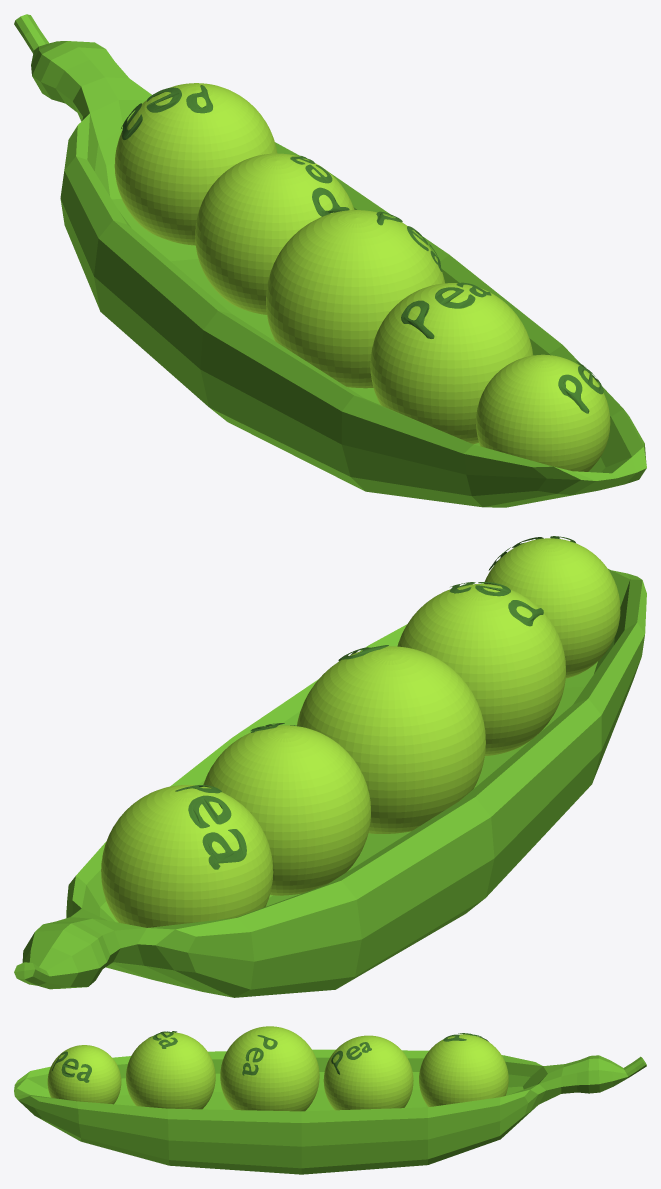
File: vegetable.fbx
The picture shows the model from 3 angles, top to bottom: view 1: azimuth 30°, elevation 25°; view 2: azimuth 150°, elevation 25°; view 3: azimuth 270°, elevation 25°; orthographic projection. The views are drawn at different scales.
Visible parts, largest first — view 1: Cube, Text.004, Text.001, Text.003, Text; view 2: Cube, Text.004, Text.001; view 3: Cube, Text, Text.002, Text.003, Text.001.
Boxes of the visible parts, left/top/right/bottom form: Cube: left=14, top=14, right=646, bottom=507; Text.004: left=121, top=85, right=212, bottom=139; Text.001: left=401, top=282, right=491, bottom=338; Text.003: left=290, top=155, right=349, bottom=216; Text: left=558, top=361, right=603, bottom=413; Cube: left=14, top=538, right=646, bottom=997; Text.004: left=175, top=785, right=246, bottom=869; Text.001: left=449, top=582, right=543, bottom=626; Cube: left=14, top=1026, right=646, bottom=1174; Text: left=52, top=1051, right=91, bottom=1082; Text.002: left=242, top=1035, right=277, bottom=1075; Text.003: left=331, top=1042, right=371, bottom=1074; Text.001: left=149, top=1031, right=177, bottom=1048.
Bounding box in the file's own units: 3.94 × 2.97 × 14.98.
